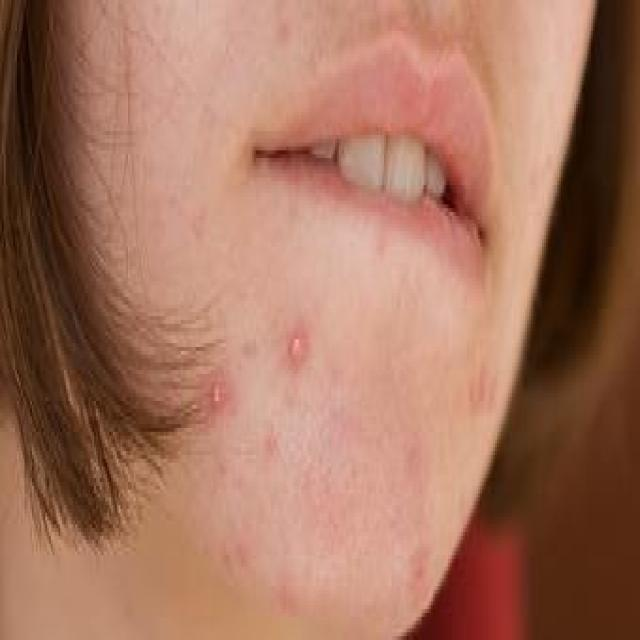blackheads: (205, 370, 232, 413), (284, 324, 309, 370), (277, 12, 290, 46), (266, 424, 278, 455)
